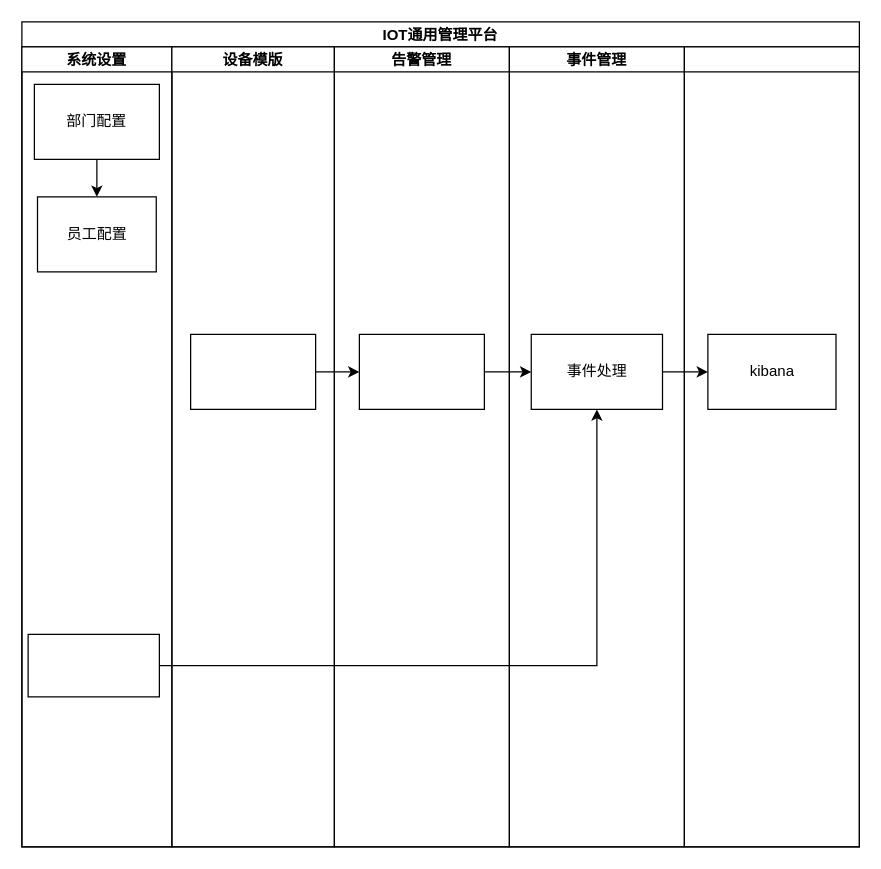
Some shapes in this 881 by 869 pixel diagram are drawn without their labels. The shapes that lost their labels are listed below. From the top down, each one's box as (x1, y1, x2, y2) in pixels, then its label:
(189, 333, 316, 409): 模板管理
(358, 333, 484, 409): 报警信息
(683, 46, 859, 847): 统计分析
(27, 633, 159, 697): 消息通知配置
